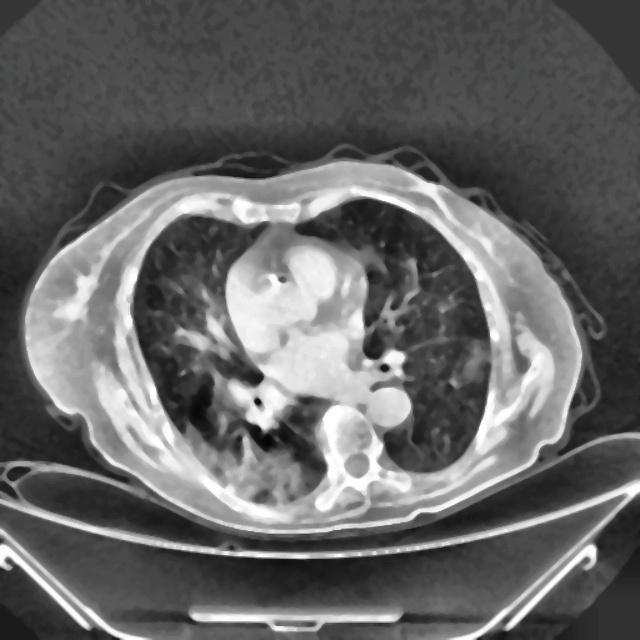covid: (20, 147, 605, 540)
